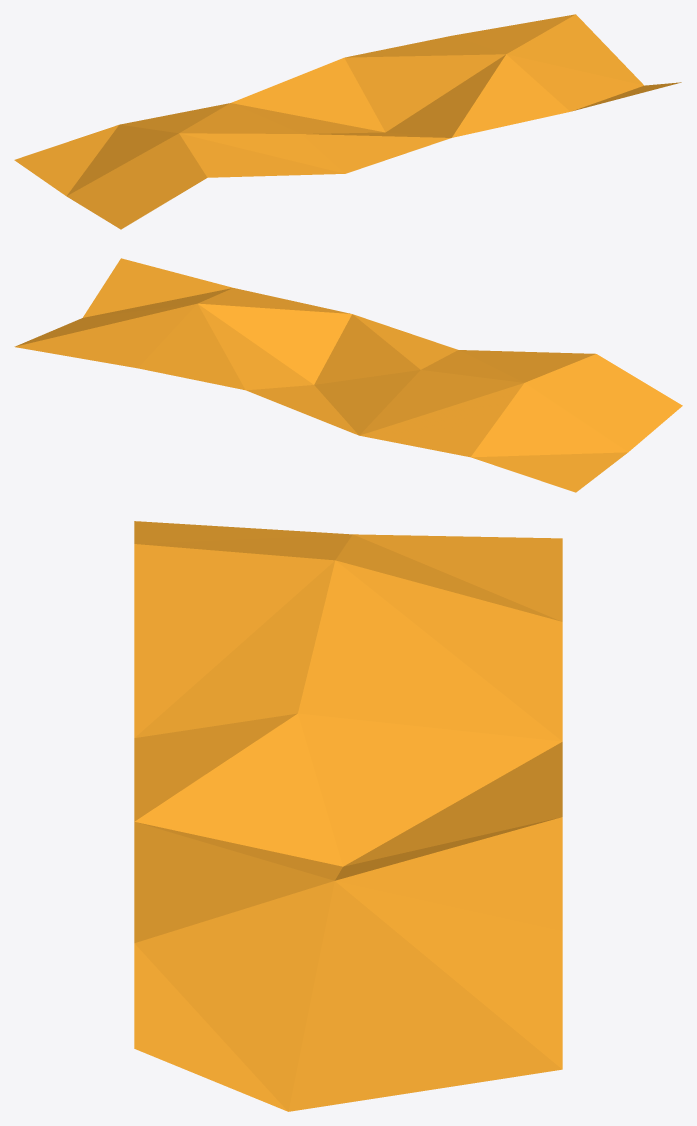
File: SM_Planter_Box_Dirt_Small_A_Farm.fbx
3 views of the same model, one above another, from view 1: azimuth 30°, elevation 25°; view 2: azimuth 150°, elevation 25°; view 3: azimuth 270°, elevation 25° (orthographic). The views are drawn at different scales.
Visible parts, largest first — view 1: planter-box-dirt-small-a-farm; view 2: planter-box-dirt-small-a-farm; view 3: planter-box-dirt-small-a-farm.
Part boxes in pixels (x1,y1,x2,y2): planter-box-dirt-small-a-farm: (14,14,681,229); planter-box-dirt-small-a-farm: (14,258,682,492); planter-box-dirt-small-a-farm: (134,521,562,1111).
Size of the model in its own units: 0.9616 by 0.0889 by 0.3172.
